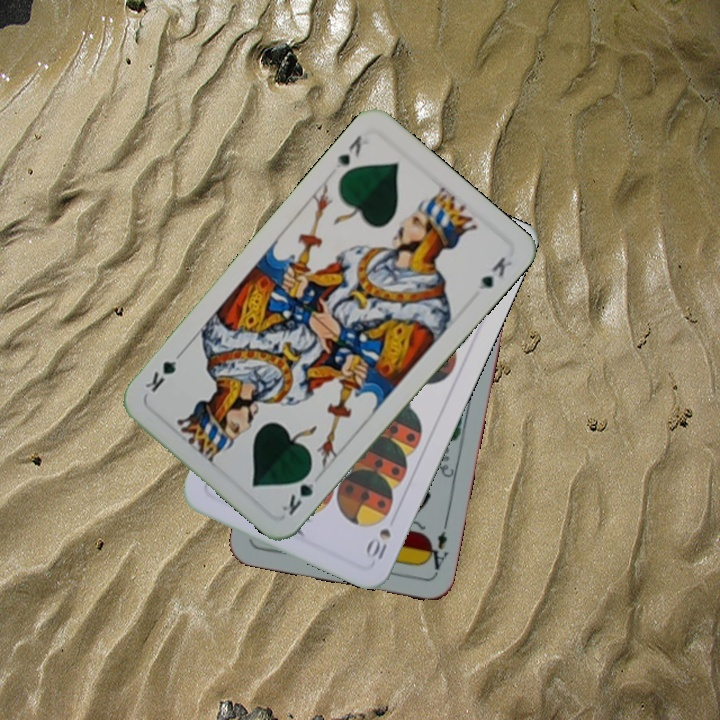EA: (421, 517, 451, 576)
GK: (277, 465, 317, 518), (331, 131, 365, 171)
S10: (362, 524, 394, 565)
